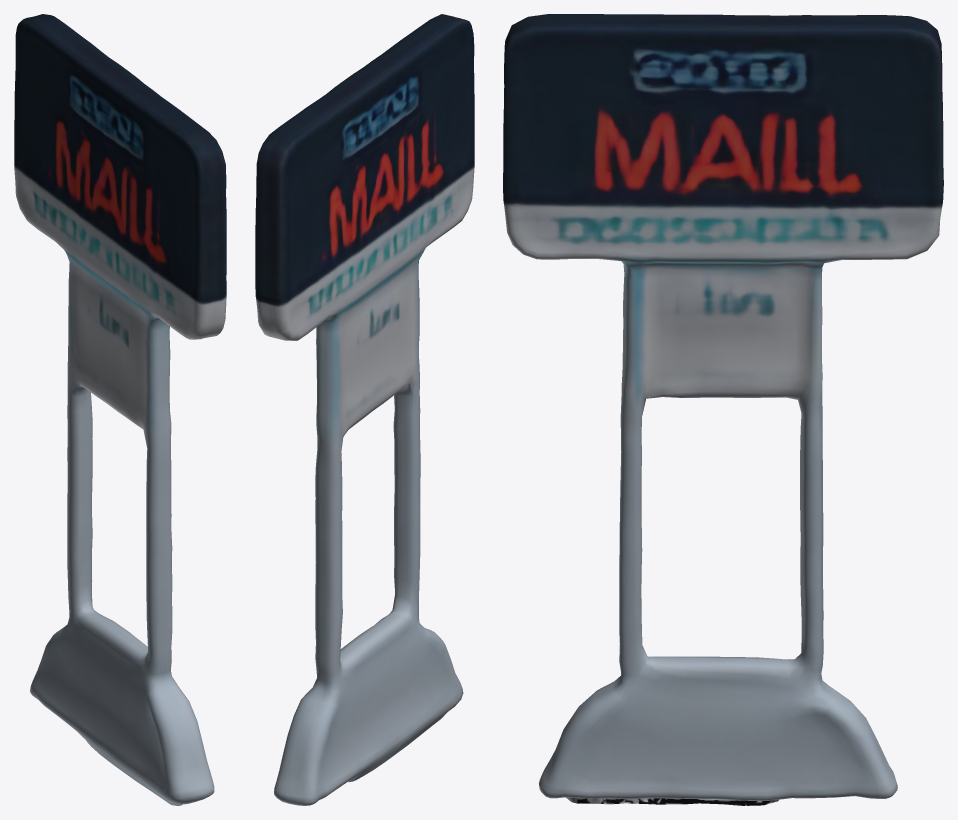
File: espectacular.obj
3 views of the same model, side by side, from view 1: azimuth 30°, elevation 25°; view 2: azimuth 150°, elevation 25°; view 3: azimuth 270°, elevation 25° (orthographic). The views are drawn at different scales.
Visible parts, largest first — view 1: espectacular; view 2: espectacular; view 3: espectacular.
Part boxes in pixels (x1=…): espectacular: x1=14, y1=14, x2=226, y2=805; espectacular: x1=255, y1=14, x2=474, y2=805; espectacular: x1=503, y1=14, x2=943, y2=805.
Size of the model in its own units: 0.9803 by 14.4 by 7.33.
Materials: 1 (1 with a texture image).
